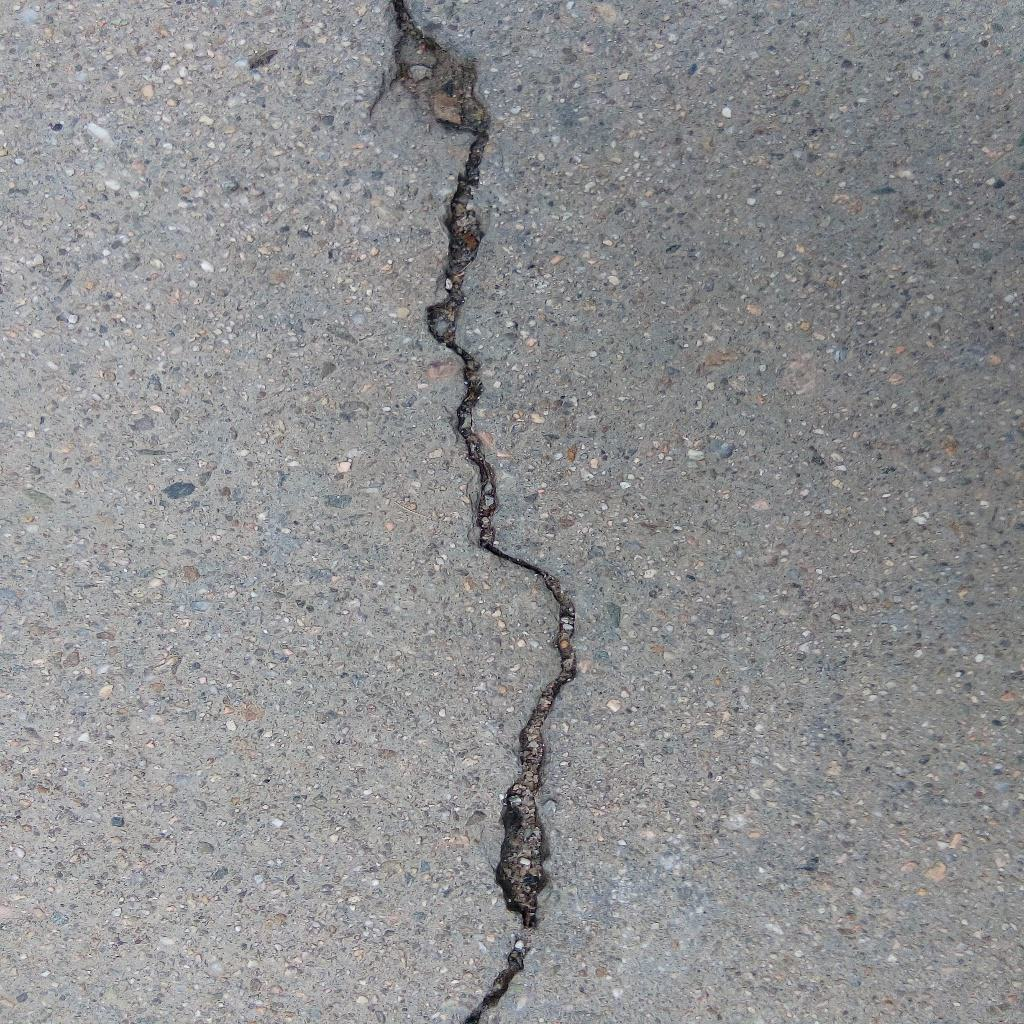Crack: (385, 1, 579, 1024)
